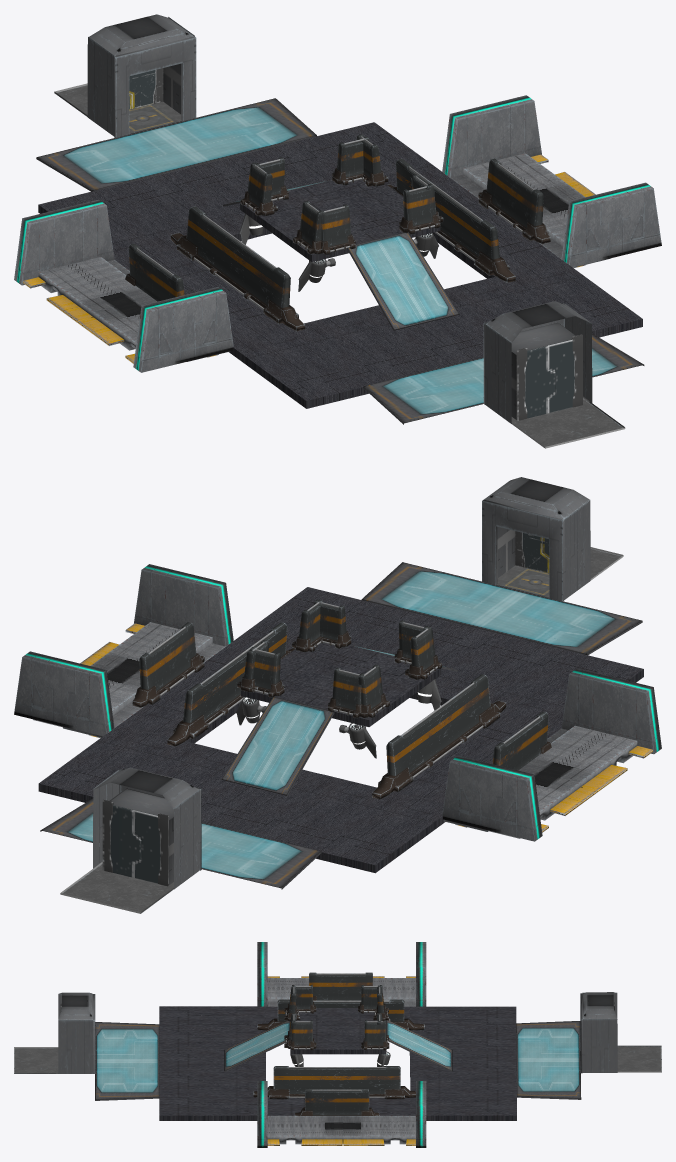
The model's file is AbeStage_light.fbx.
3 renders of one model, top to bottom at view 1: azimuth 30°, elevation 25°; view 2: azimuth 150°, elevation 25°; view 3: azimuth 270°, elevation 25°, orthographic. The views are drawn at different scales.
Visible parts, largest first — view 1: Spaceship_shipboard_wall_mdl, Spaceship_shipboard_wall_mdl__1_, Spaceship_shipboard_mdl__2_, Spaceship_docking_side_mdl_1, Docking_Floors_mdl__9_, Spaceship_shipboard_mdl__1_, Docking_Floors_mdl__13_, Barricade_mdl, Spaceship_shipboard_mdl, Docking_Floors_mdl__5_, Docking_Floors_mdl__10_, Spaceship_door_mdl (+31 smaller); view 2: Spaceship_shipboard_wall_mdl, Spaceship_shipboard_wall_mdl__1_, Spaceship_shipboard_mdl, Spaceship_docking_side_mdl, Spaceship_shipboard_mdl__3_, Docking_Floors_mdl__13_, Docking_Floors_mdl__11_, Spaceship_shipboard_mdl__2_, Barricade_mdl, Docking_Floors_mdl__7_, Docking_Floors_mdl__12_, Spaceship_door_mdl__2_ (+31 smaller); view 3: Spaceship_shipboard_mdl, Spaceship_shipboard_mdl__2_, Barricade_mdl__2_, Spaceship_docking_side_mdl_1, Spaceship_docking_side_mdl, Docking_Floors_mdl__13_, Docking_Floors_mdl__10_, Docking_Floors_mdl__12_, Docking_Floors_mdl__9_, Docking_Floors_mdl__11_, Docking_Floors_mdl__4_, Docking_Floors_mdl__8_ (+23 smaller).
Part boxes in pixels (left/top/right/bottom): Spaceship_shipboard_wall_mdl: left=14, top=199, right=233, bottom=372; Spaceship_shipboard_wall_mdl__1_: left=442, top=95, right=661, bottom=267; Spaceship_shipboard_mdl__2_: left=36, top=98, right=316, bottom=191; Spaceship_docking_side_mdl_1: left=23, top=153, right=595, bottom=322; Docking_Floors_mdl__9_: left=229, top=327, right=372, bottom=408; Spaceship_shipboard_mdl__1_: left=347, top=232, right=459, bottom=330; Docking_Floors_mdl__13_: left=240, top=179, right=440, bottom=261; Barricade_mdl: left=170, top=206, right=305, bottom=331; Spaceship_shipboard_mdl: left=363, top=333, right=644, bottom=424; Docking_Floors_mdl__5_: left=301, top=309, right=439, bottom=383; Docking_Floors_mdl__10_: left=496, top=260, right=642, bottom=337; Spaceship_door_mdl: left=516, top=334, right=582, bottom=420; Spaceship_shipboard_wall_mdl: left=442, top=668, right=661, bottom=841; Spaceship_shipboard_wall_mdl__1_: left=14, top=564, right=233, bottom=736; Spaceship_shipboard_mdl: left=361, top=562, right=642, bottom=655; Spaceship_docking_side_mdl: left=80, top=622, right=652, bottom=792; Spaceship_shipboard_mdl__3_: left=221, top=697, right=334, bottom=795; Docking_Floors_mdl__13_: left=241, top=643, right=441, bottom=726; Docking_Floors_mdl__11_: left=309, top=791, right=444, bottom=873; Spaceship_shipboard_mdl__2_: left=40, top=798, right=321, bottom=889; Barricade_mdl: left=372, top=674, right=506, bottom=799; Docking_Floors_mdl__7_: left=242, top=774, right=376, bottom=847; Docking_Floors_mdl__12_: left=38, top=725, right=185, bottom=802; Spaceship_door_mdl__2_: left=102, top=799, right=168, bottom=886; Spaceship_shipboard_mdl: left=95, top=1022, right=159, bottom=1100; Spaceship_shipboard_mdl__2_: left=516, top=1021, right=581, bottom=1099; Barricade_mdl__2_: left=253, top=1066, right=415, bottom=1099; Spaceship_docking_side_mdl_1: left=342, top=976, right=415, bottom=1145; Spaceship_docking_side_mdl: left=267, top=976, right=342, bottom=1145; Docking_Floors_mdl__13_: left=290, top=1008, right=386, bottom=1054; Docking_Floors_mdl__10_: left=159, top=1094, right=257, bottom=1120; Docking_Floors_mdl__12_: left=410, top=1094, right=516, bottom=1120; Docking_Floors_mdl__9_: left=159, top=1006, right=265, bottom=1028; Docking_Floors_mdl__11_: left=409, top=1006, right=516, bottom=1028; Docking_Floors_mdl__4_: left=159, top=1072, right=265, bottom=1093; Docking_Floors_mdl__8_: left=410, top=1072, right=516, bottom=1093.
Bounding box in the file's own units: 1937 × 355 × 3138.
